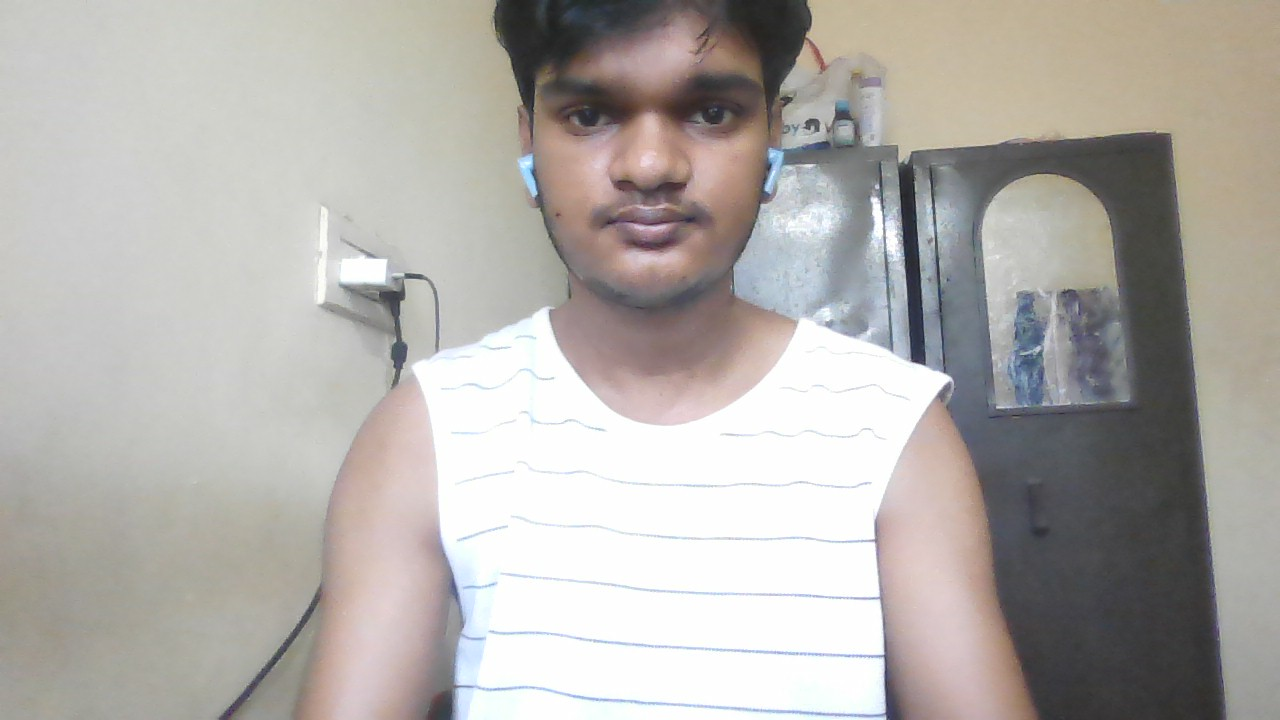earphone: (766, 151, 784, 191), (519, 153, 537, 193)
